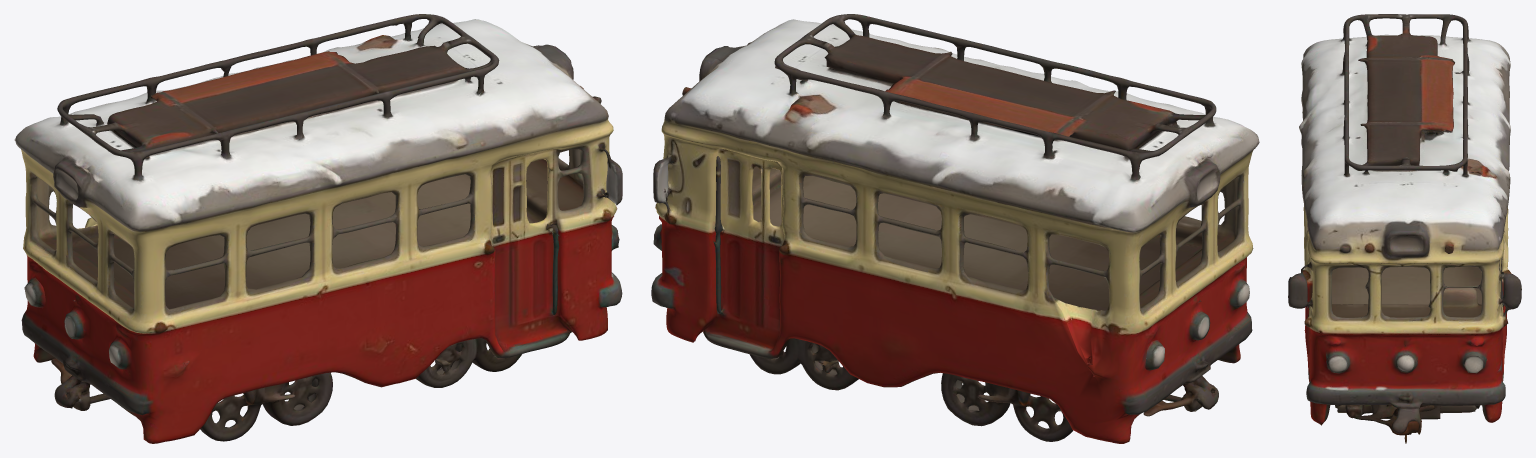
Rendered from tomsk_tram.glb.
3 views of the same model, side by side, from view 1: azimuth 30°, elevation 25°; view 2: azimuth 150°, elevation 25°; view 3: azimuth 270°, elevation 25° (orthographic). The views are drawn at different scales.
Parts seen in each view (by area): view 1: tripo_node_19acac25-6602-411a-986a-9b6cb566ab13; view 2: tripo_node_19acac25-6602-411a-986a-9b6cb566ab13; view 3: tripo_node_19acac25-6602-411a-986a-9b6cb566ab13.
Boxes of the visible parts, x1,y1,x2,y2 form: tripo_node_19acac25-6602-411a-986a-9b6cb566ab13: (14,14,622,443); tripo_node_19acac25-6602-411a-986a-9b6cb566ab13: (651,14,1259,443); tripo_node_19acac25-6602-411a-986a-9b6cb566ab13: (1288,14,1521,443).
Size of the model in its own units: 0.9803 by 0.53 by 0.457.
Materials: 1 (1 with a texture image).
